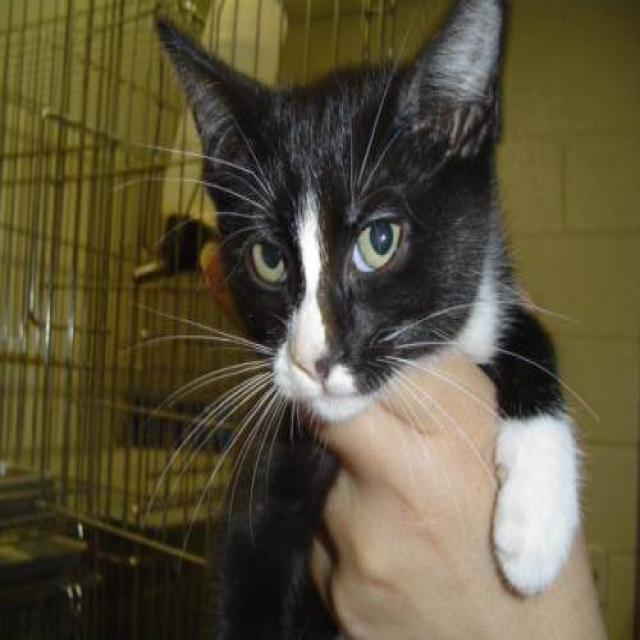cat: (120, 0, 598, 638)
